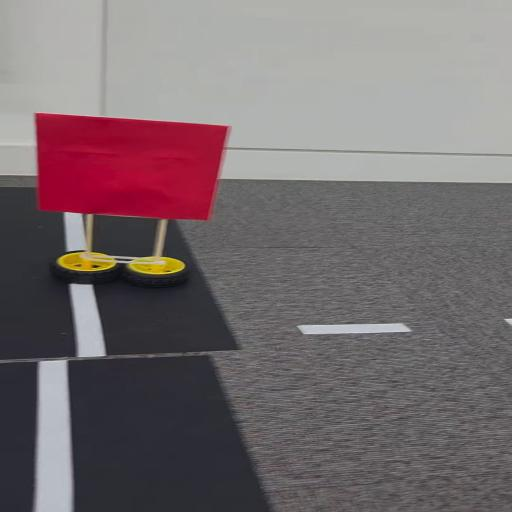Sign_A: (28, 106, 230, 294)
